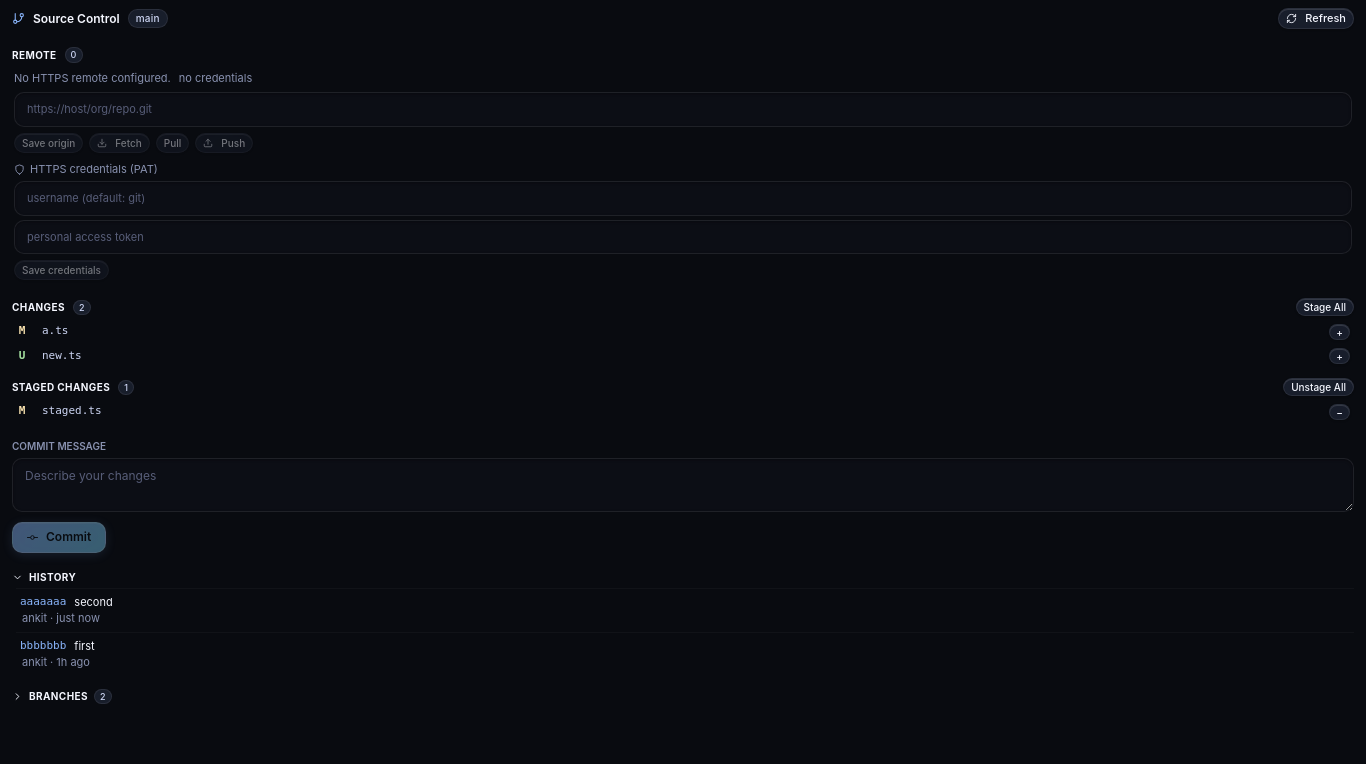
it: SourceControlPanel — M51 › 62. checkout 409 shows a conflict banner and does NOT reconcile/switch
Step 1. Click the button "BRANCHES 2" → (58, 696), box [12, 686, 1354, 707]
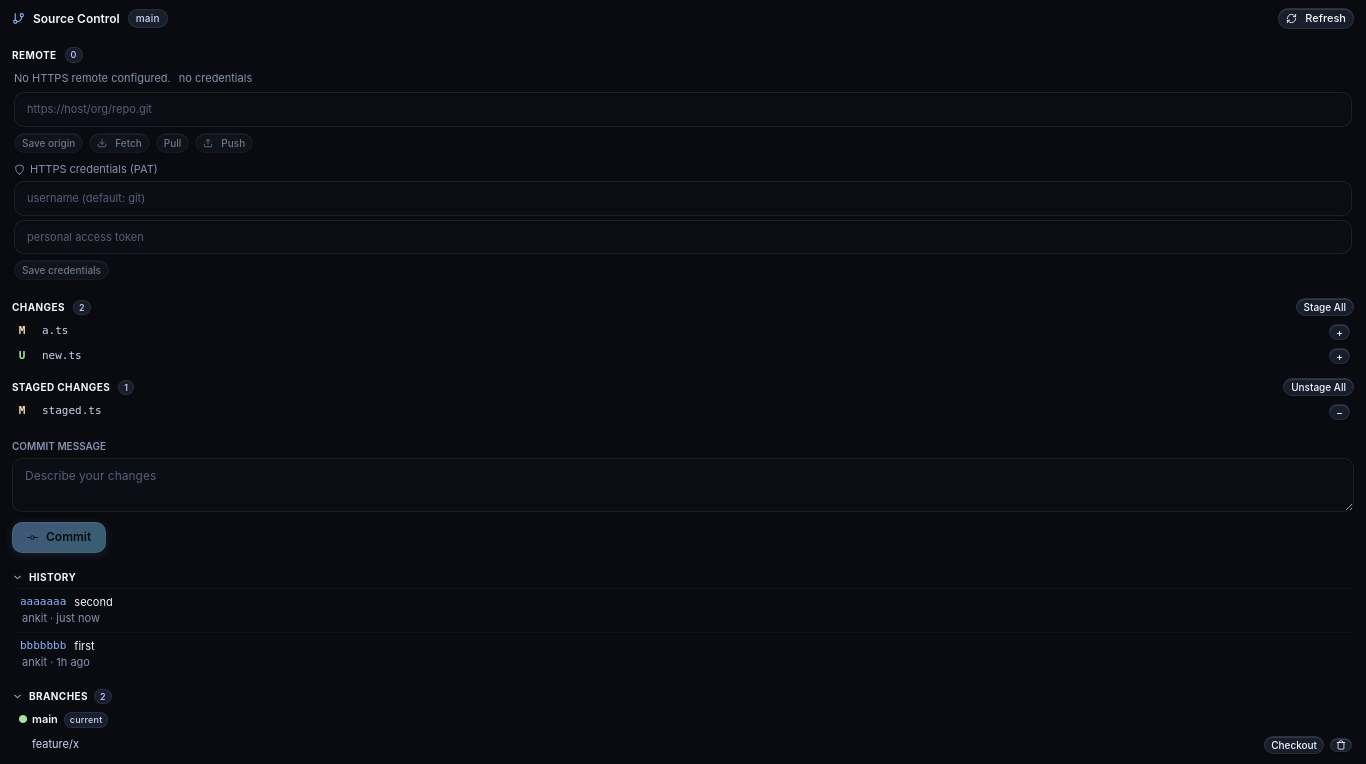
Step 2. Click the button "Checkout" → (1294, 745), box [1264, 736, 1324, 754]
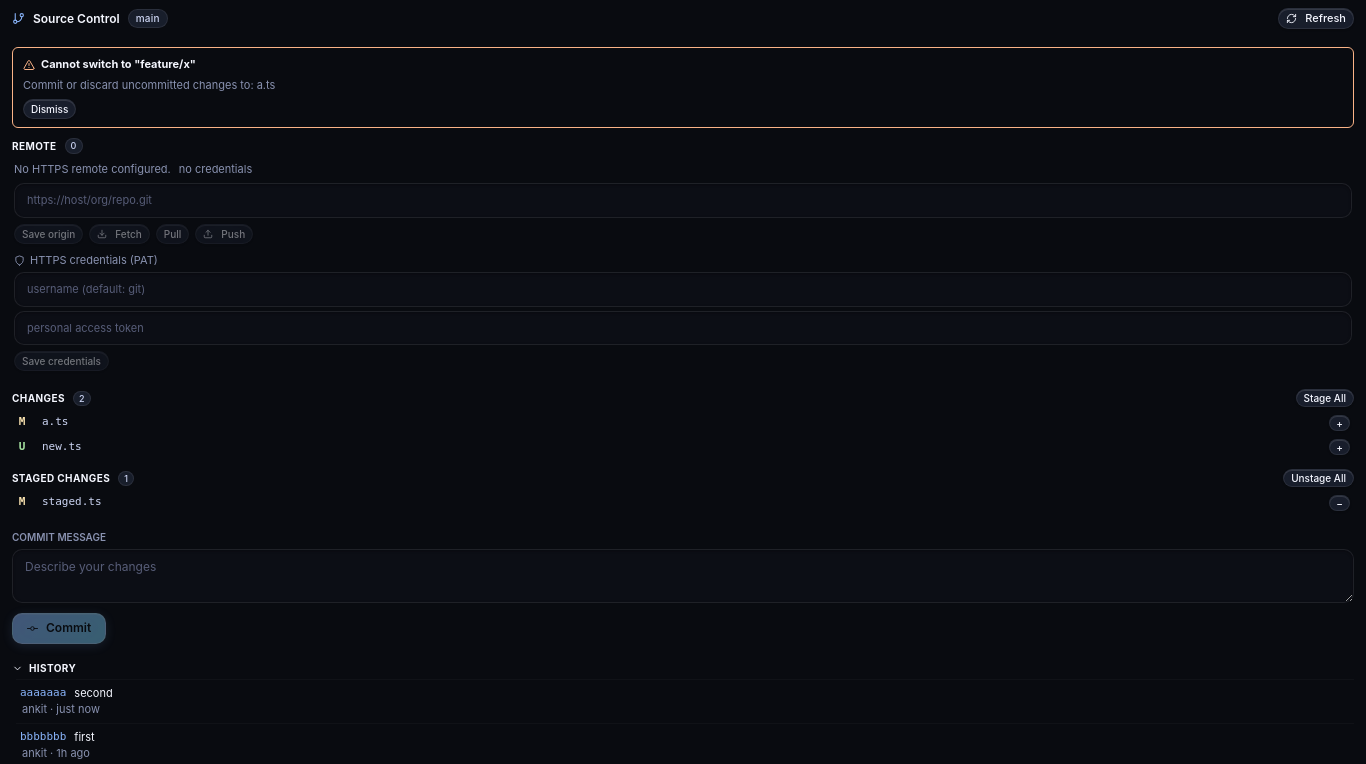
Expected: the element with test id "git-conflict" shows "Cannot switch to \"feature/x\"", [12, 47, 1354, 128]
Expected: the element with test id "git-conflict" shows "a.ts", [257, 78, 275, 92]
